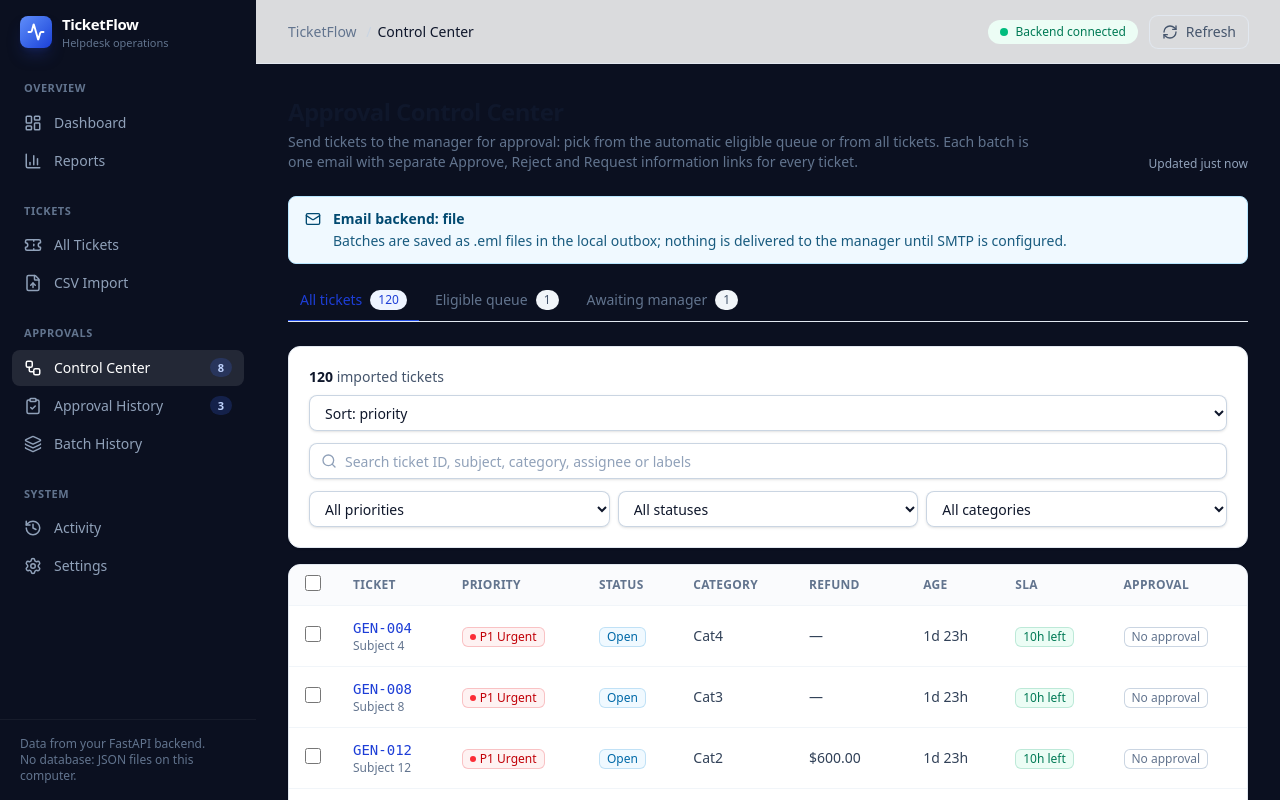
Scenario: Control Center: All tickets › shows the server refusal for a duplicate request
The width and height of the screenshot is (1280, 800).
Check: the element with test id "all-tickets-count" shows "imported tickets", box [309,367,444,387]
Step 1. Type "GEN-003" into the search field named "Search all tickets" → {"x": 768, "y": 461}, box [309,443,1227,479]
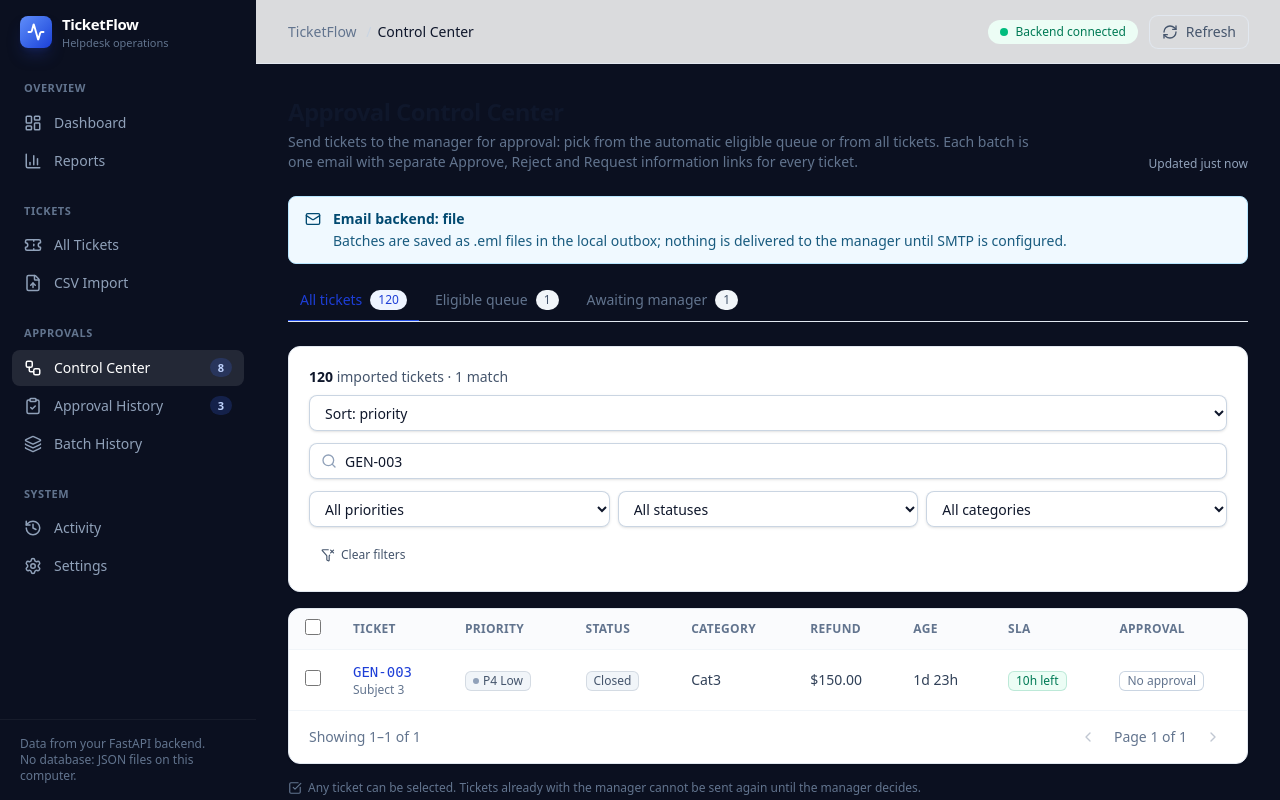
Step 2. Click the checkbox named "Select GEN-003" → {"x": 313, "y": 678}, box [305,670,321,686]
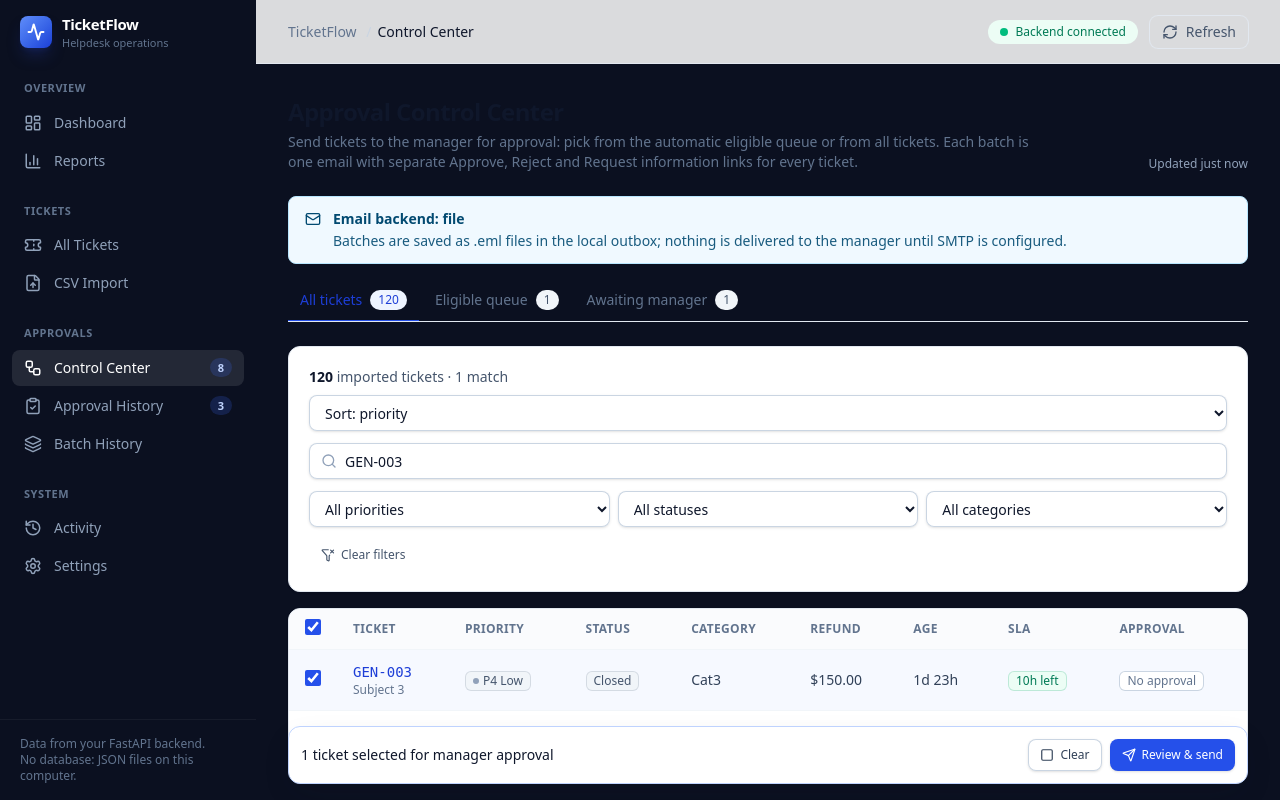
Step 3. Click the button "Review & send" → {"x": 1172, "y": 755}, box [1110,739,1235,771]
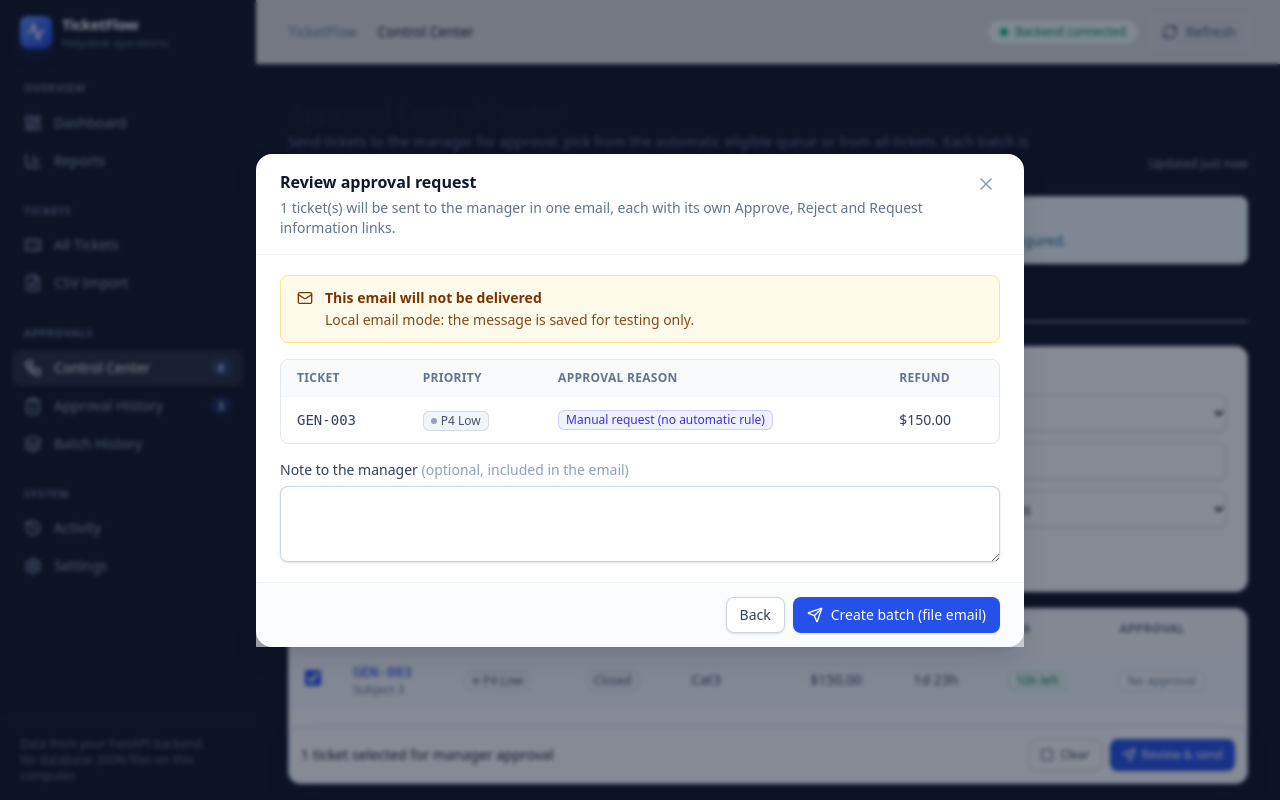
Step 4. Click the button "Create batch (file email)" → {"x": 896, "y": 614}, box [793,596,1000,632]
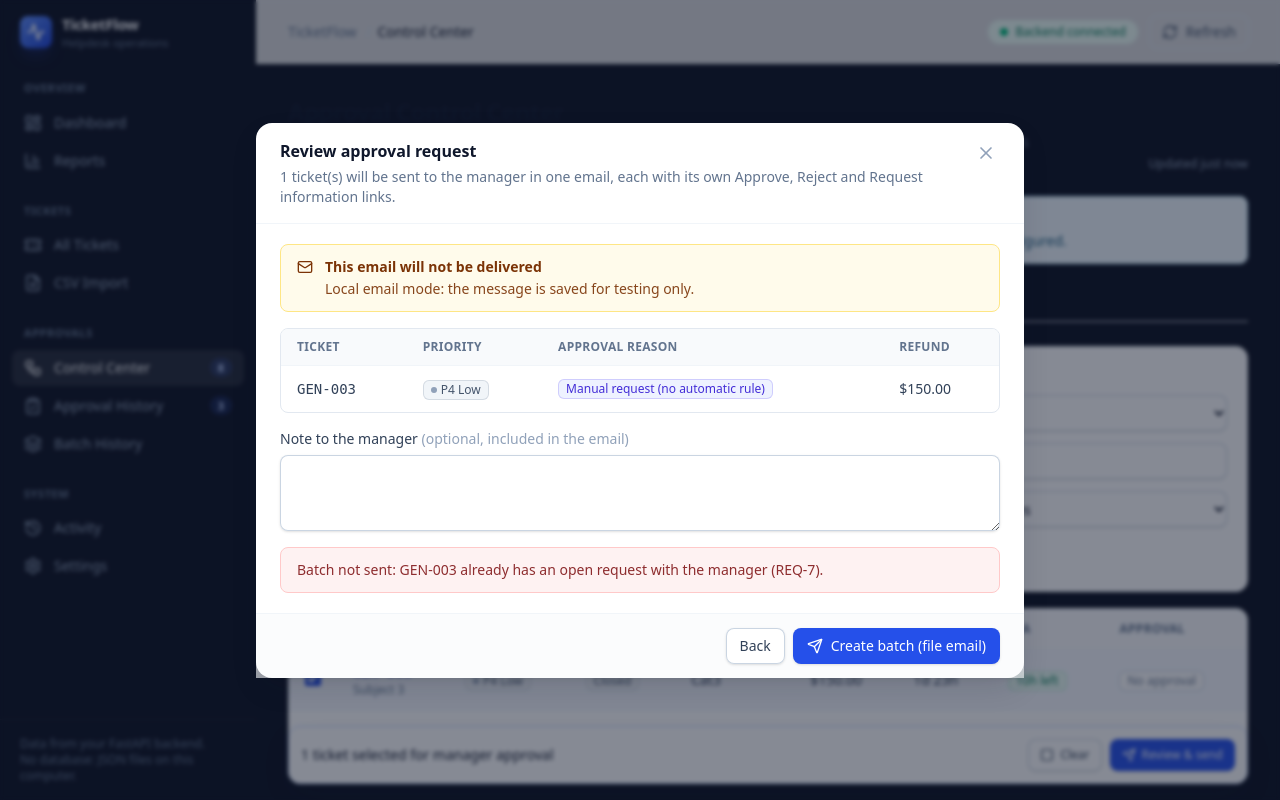
Check: the text "Batch not sent: GEN-003 already has an open request with the manager (REQ-7)." is shown, box [297,560,823,580]
